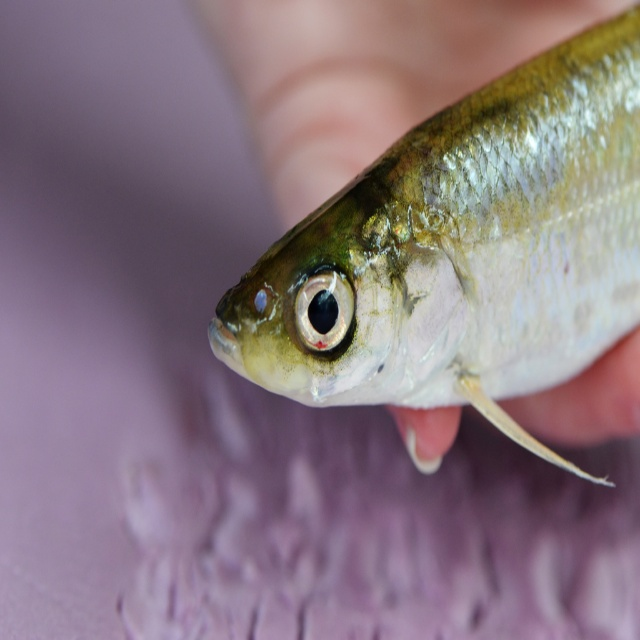Fish: (205, 2, 640, 488)
